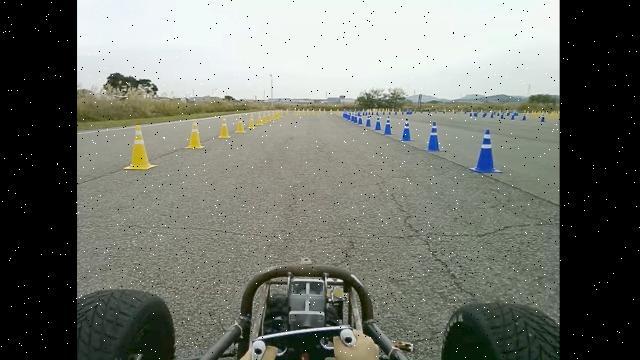blue cone: (469, 130, 501, 177), (421, 116, 452, 155), (396, 118, 412, 144), (382, 117, 392, 136)
yellow cone: (123, 124, 157, 170), (184, 119, 206, 149), (218, 116, 231, 138), (235, 114, 246, 133), (247, 113, 257, 129), (256, 113, 264, 126)
